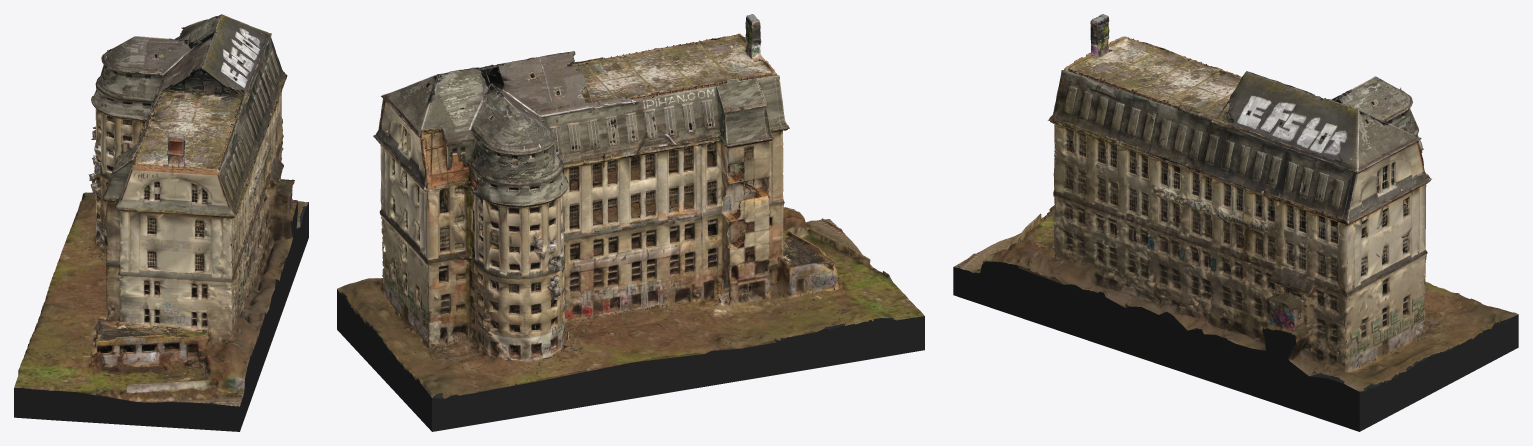
The model's file is scan_casarao.glb.
3 views of the same model, side by side, from view 1: azimuth 30°, elevation 25°; view 2: azimuth 150°, elevation 25°; view 3: azimuth 270°, elevation 25° (orthographic). The views are drawn at different scales.
Parts seen in each view (by area): view 1: Polygraphenwerk; view 2: Polygraphenwerk; view 3: Polygraphenwerk.
Boxes of the visible parts, x1,y1,x2,y2 form: Polygraphenwerk: [14, 14, 308, 431]; Polygraphenwerk: [337, 14, 924, 431]; Polygraphenwerk: [953, 14, 1518, 431].
Bounding box in the file's own units: 33.64 × 19.8 × 36.34.
Materials: 5 (5 with a texture image).
